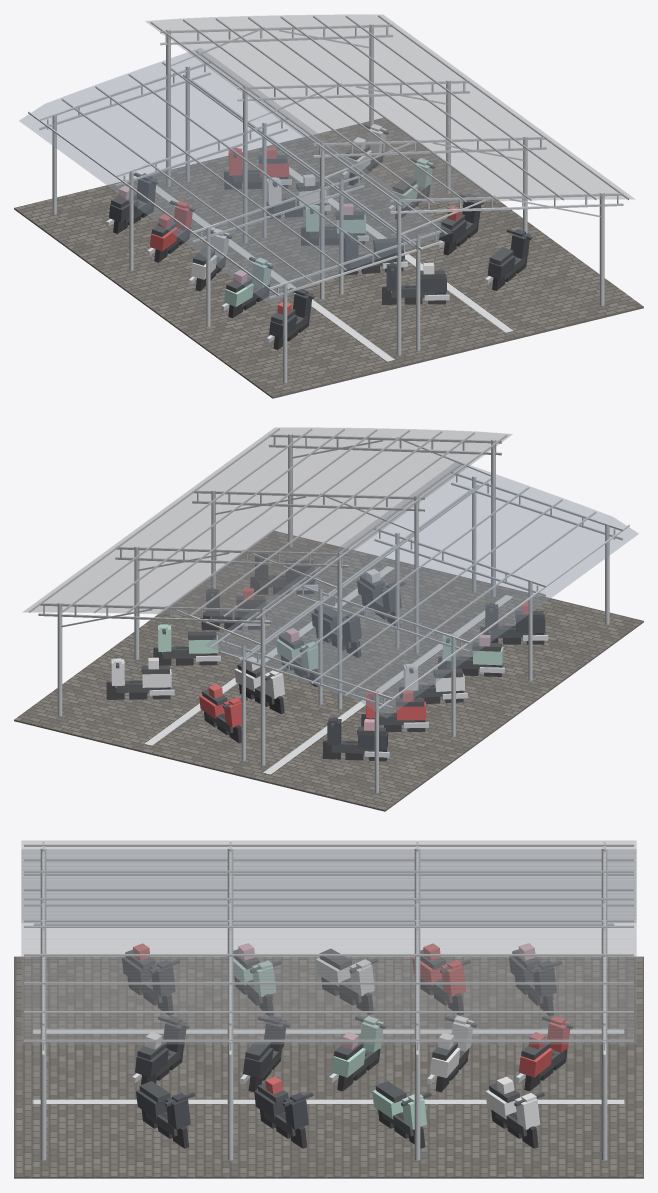
File: parkiran_motor_cutaway.glb
3 views of the same model, one above another, from view 1: azimuth 30°, elevation 25°; view 2: azimuth 150°, elevation 25°; view 3: azimuth 270°, elevation 25° (orthographic). The views are drawn at different scales.
Visible parts, largest first — view 1: Lantai_Paving_Marka, Atap_Kanopi_Kiri_Rendah, Atap_Kanopi_Kanan_Tinggi, Rangka_Tiang_Baja_Galvanis, Jok_Dan_Stang_Motor, Body_Motor_Hitam, Ban_Karet_Motor, Body_Motor_Mint, Body_Motor_Putih, Body_Motor_Merah, Knalpot_Dan_Suspensi; view 2: Lantai_Paving_Marka, Atap_Kanopi_Kiri_Rendah, Atap_Kanopi_Kanan_Tinggi, Rangka_Tiang_Baja_Galvanis, Jok_Dan_Stang_Motor, Ban_Karet_Motor, Body_Motor_Hitam, Body_Motor_Putih, Body_Motor_Mint, Body_Motor_Merah, Knalpot_Dan_Suspensi; view 3: Atap_Kanopi_Kanan_Tinggi, Lantai_Paving_Marka, Atap_Kanopi_Kiri_Rendah, Rangka_Tiang_Baja_Galvanis, Jok_Dan_Stang_Motor, Body_Motor_Hitam, Ban_Karet_Motor, Body_Motor_Putih, Body_Motor_Mint, Body_Motor_Merah, Helm_Merah, Helm_Putih (+1 smaller).
Boxes of the visible parts, x1,y1,x2,y2 form: Lantai_Paving_Marka: (14, 118, 643, 398); Atap_Kanopi_Kiri_Rendah: (19, 48, 452, 305); Atap_Kanopi_Kanan_Tinggi: (145, 14, 634, 205); Rangka_Tiang_Baja_Galvanis: (28, 15, 629, 383); Jok_Dan_Stang_Motor: (110, 123, 532, 337); Body_Motor_Hitam: (109, 173, 530, 338); Ban_Karet_Motor: (113, 152, 527, 349); Body_Motor_Mint: (224, 158, 433, 306); Body_Motor_Putih: (191, 124, 386, 279); Body_Motor_Merah: (150, 148, 289, 251); Knalpot_Dan_Suspensi: (106, 171, 493, 342); Lantai_Paving_Marka: (14, 531, 643, 811); Atap_Kanopi_Kiri_Rendah: (205, 462, 638, 718); Atap_Kanopi_Kanan_Tinggi: (23, 427, 512, 618); Rangka_Tiang_Baja_Galvanis: (28, 428, 629, 793); Jok_Dan_Stang_Motor: (115, 558, 543, 753); Ban_Karet_Motor: (106, 576, 544, 761); Body_Motor_Hitam: (206, 553, 545, 749); Body_Motor_Putih: (111, 658, 464, 699); Body_Motor_Mint: (158, 624, 503, 669); Body_Motor_Merah: (199, 690, 425, 727); Knalpot_Dan_Suspensi: (115, 581, 548, 757); Atap_Kanopi_Kanan_Tinggi: (21, 840, 636, 1044); Lantai_Paving_Marka: (14, 956, 643, 1178); Atap_Kanopi_Kiri_Rendah: (21, 850, 636, 922); Rangka_Tiang_Baja_Galvanis: (24, 842, 633, 1160); Jok_Dan_Stang_Motor: (125, 948, 573, 1136); Body_Motor_Hitam: (122, 956, 556, 1129); Ban_Karet_Motor: (127, 976, 567, 1148); Body_Motor_Putih: (316, 958, 540, 1129); Body_Motor_Mint: (233, 957, 426, 1129); Body_Motor_Merah: (412, 957, 570, 1077); Helm_Merah: (133, 943, 545, 1094); Helm_Putih: (144, 1032, 514, 1094).
Size of the model in its own units: 10.6 by 4.35 by 12.8.
14 materials, 3 textured.
